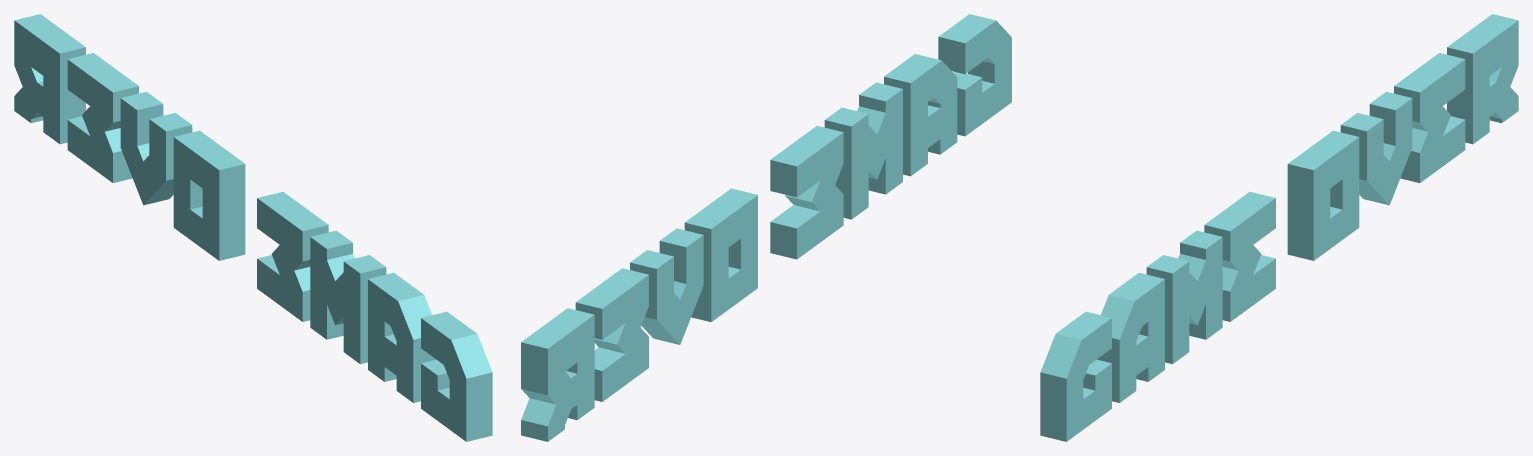
File: game_over_text.fbx
3 renders of one model, left to right at view 1: azimuth 30°, elevation 25°; view 2: azimuth 150°, elevation 25°; view 3: azimuth 330°, elevation 25°, orthographic. The views are drawn at different scales.
Visible parts, largest first — view 1: Texto; view 2: Texto; view 3: Texto.
Boxes of the visible parts, x1,y1,x2,y2 form: Texto: [14, 14, 492, 441]; Texto: [521, 14, 1011, 441]; Texto: [1040, 14, 1518, 441].
Bounding box in the file's own units: 22.6 × 75 × 677.
